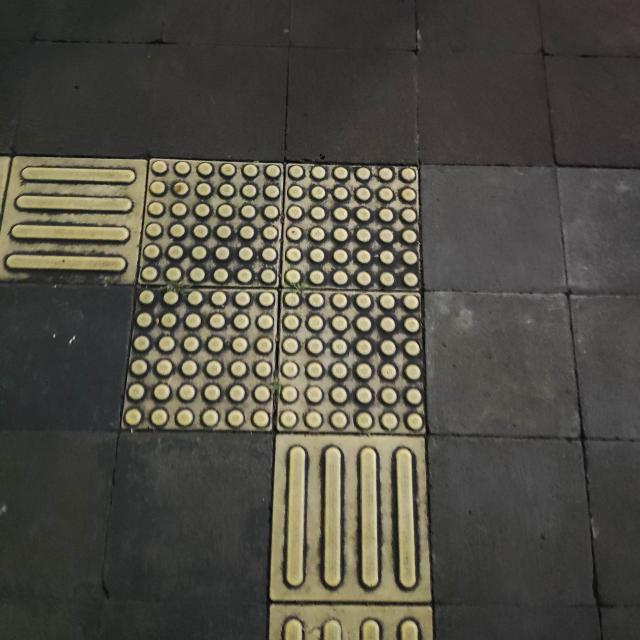kiri: (0, 133, 458, 507)
